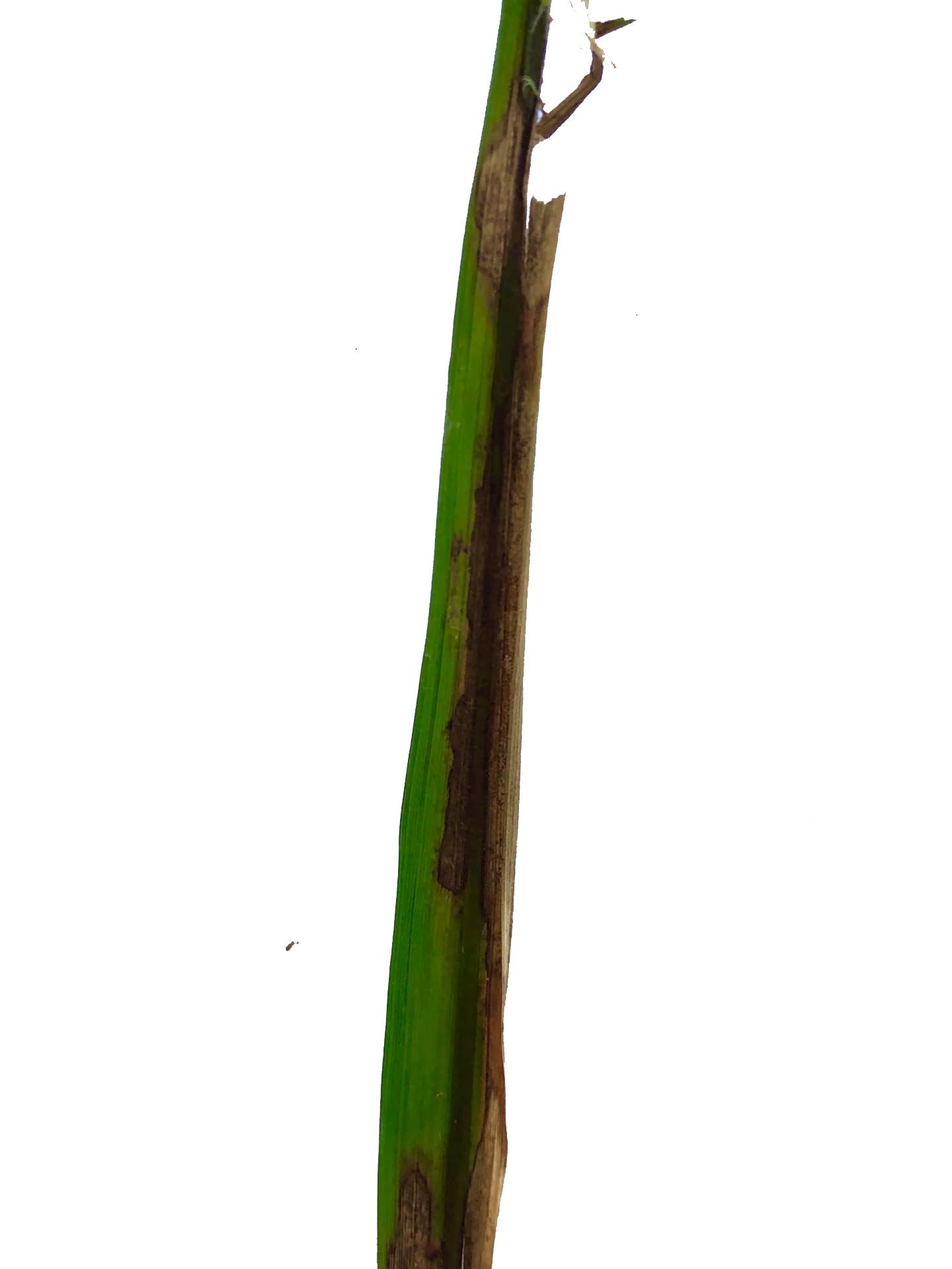Blight: (466, 278, 512, 1239), (426, 707, 522, 912), (499, 66, 565, 304), (383, 1153, 502, 1269)
